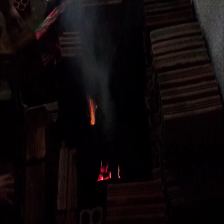fire_l: (97, 162, 112, 180), (87, 97, 96, 125), (117, 166, 121, 178)
